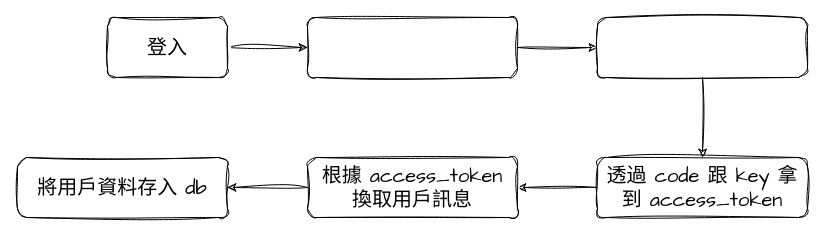
Image size: 825x235. Some labels were removed from this diagram. The shapes that lost their labels are listed below. From the top down, each one's centre as x and y in pixels, then its label:
(x=412, y=47): 跳轉 github auth 授權
(x=702, y=47): 跳轉到 callBack url 中獲取 code與 key
